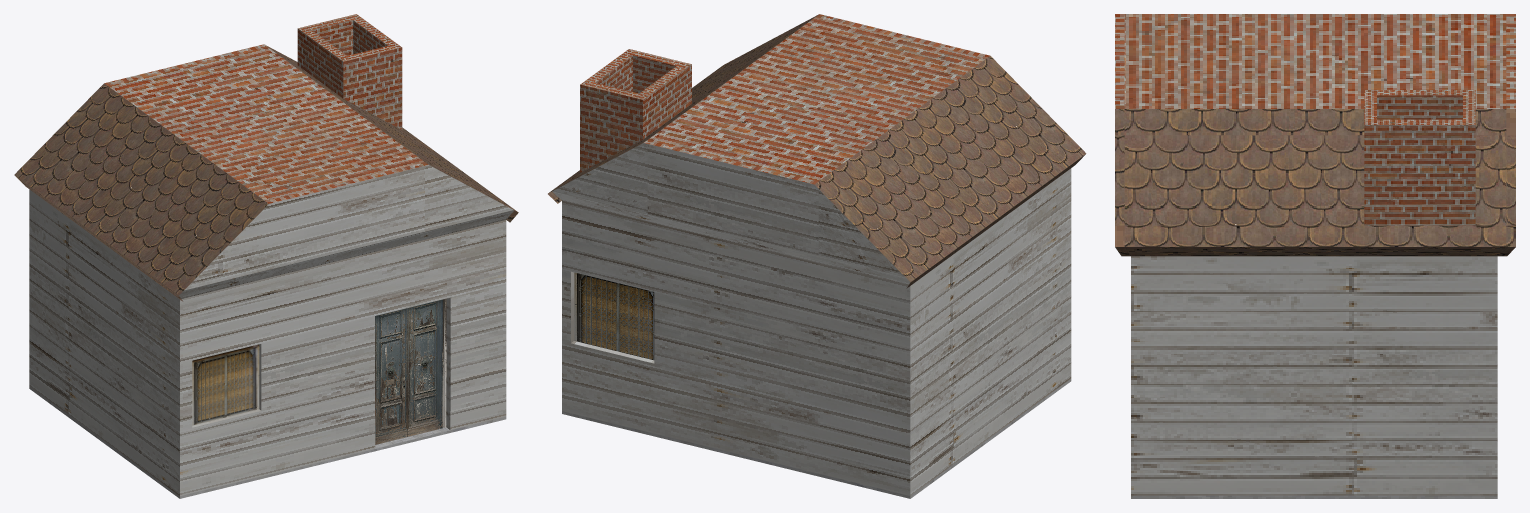
Rendered from House.glb.
3 renders of one model, left to right at view 1: azimuth 30°, elevation 25°; view 2: azimuth 150°, elevation 25°; view 3: azimuth 270°, elevation 25°, orthographic. The views are drawn at different scales.
Parts seen in each view (by area): view 1: House; view 2: House; view 3: House.
Boxes of the visible parts, x1,y1,x2,y2 form: House: (14,14,518,498); House: (548,14,1086,498); House: (1115,14,1515,498).
Size of the model in its own units: 10 by 8.54 by 8.4.
Materials: 6 (6 with a texture image).
